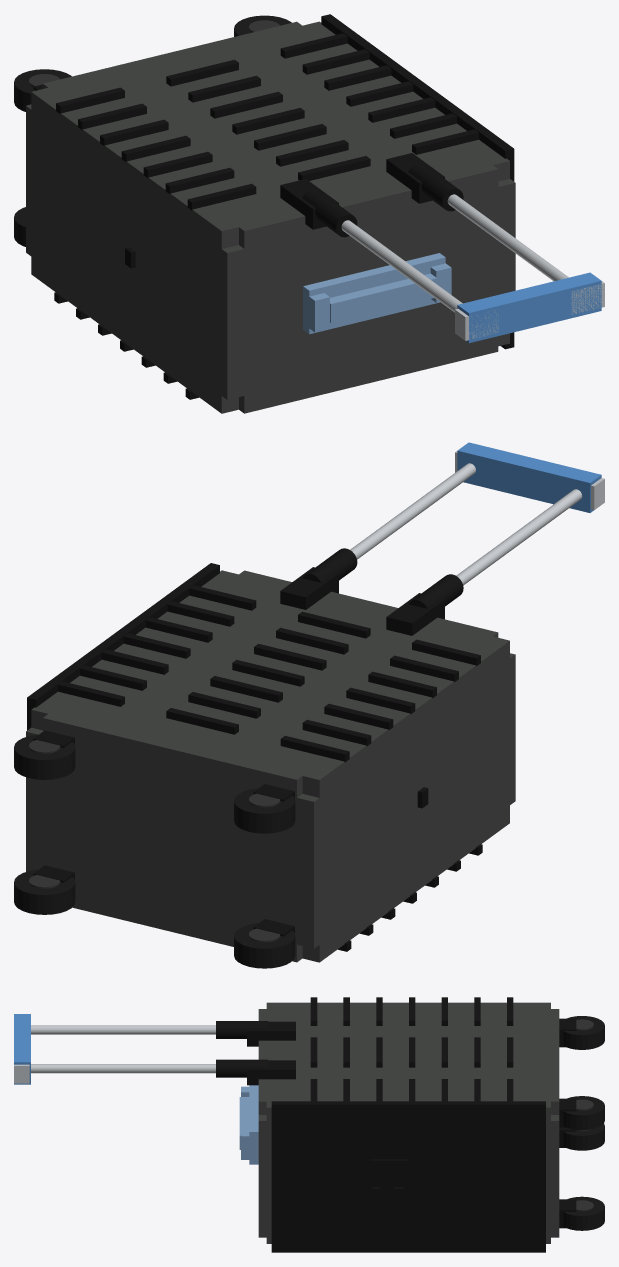
Rendered from suitcase_extended_handle_contrast.glb.
3 renders of one model, top to bottom at view 1: azimuth 30°, elevation 25°; view 2: azimuth 150°, elevation 25°; view 3: azimuth 270°, elevation 25°, orthographic. The views are drawn at different scales.
Parts seen in each view (by area): view 1: world; view 2: world; view 3: world.
Part boxes in pixels (left/top/right/bottom): world: left=14, top=14, right=604, bottom=413; world: left=14, top=442, right=604, bottom=968; world: left=14, top=997, right=604, bottom=1252.
Bounding box in the file's own units: 0.4055 × 0.269 × 0.904.
